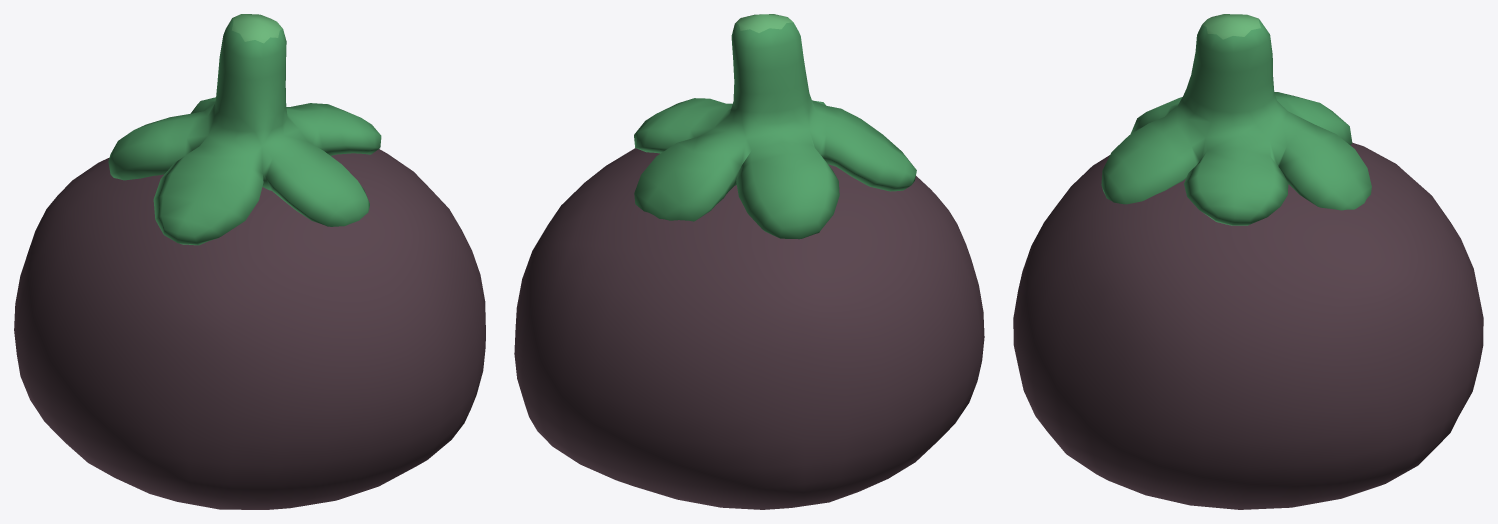
Rendered from Mangosteen_03.dae.
The picture shows the model from 3 angles, left to right: view 1: azimuth 30°, elevation 25°; view 2: azimuth 150°, elevation 25°; view 3: azimuth 270°, elevation 25°; orthographic projection.
Parts seen in each view (by area): view 1: Mangosteen_03_LOD0; view 2: Mangosteen_03_LOD0; view 3: Mangosteen_03_LOD0.
Part boxes in pixels (x1,y1,x2,y2): Mangosteen_03_LOD0: [14, 14, 485, 509]; Mangosteen_03_LOD0: [514, 14, 984, 509]; Mangosteen_03_LOD0: [1013, 14, 1483, 509].
Size of what is drawn, in the model's own units: 4.79 by 4.88 by 5.21.
